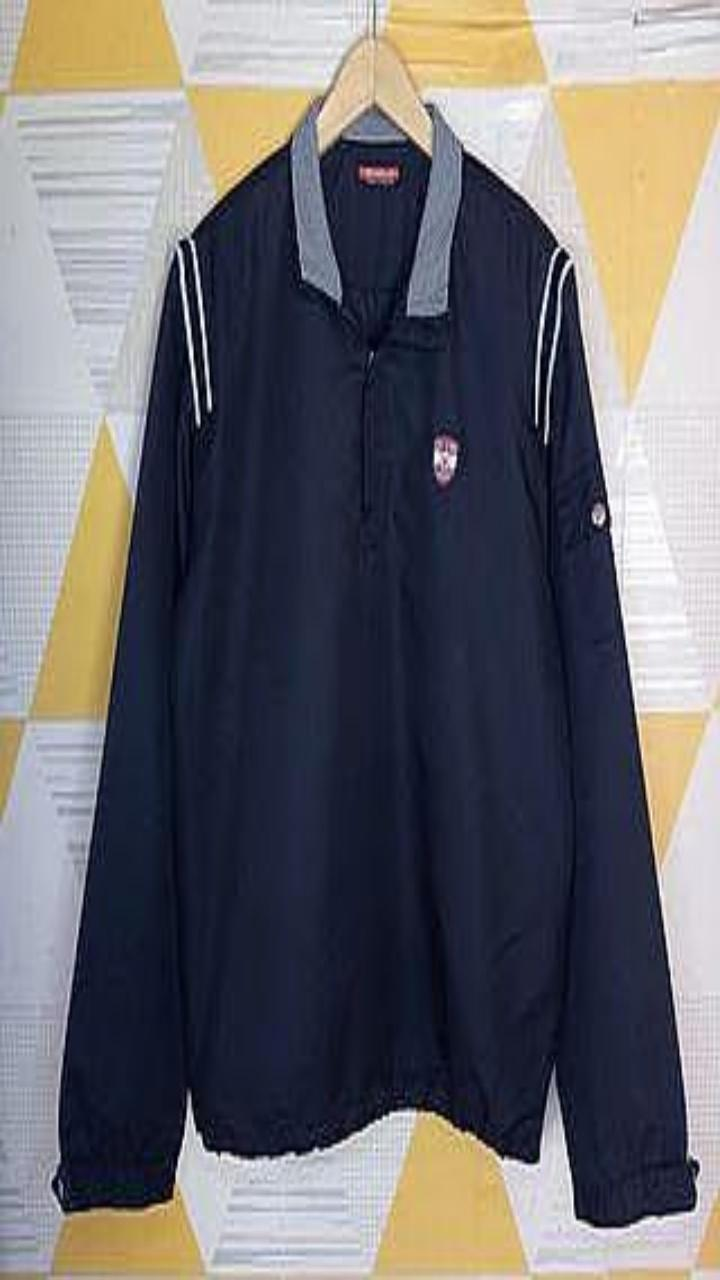Sports_Jacket: (51, 97, 699, 1225)
